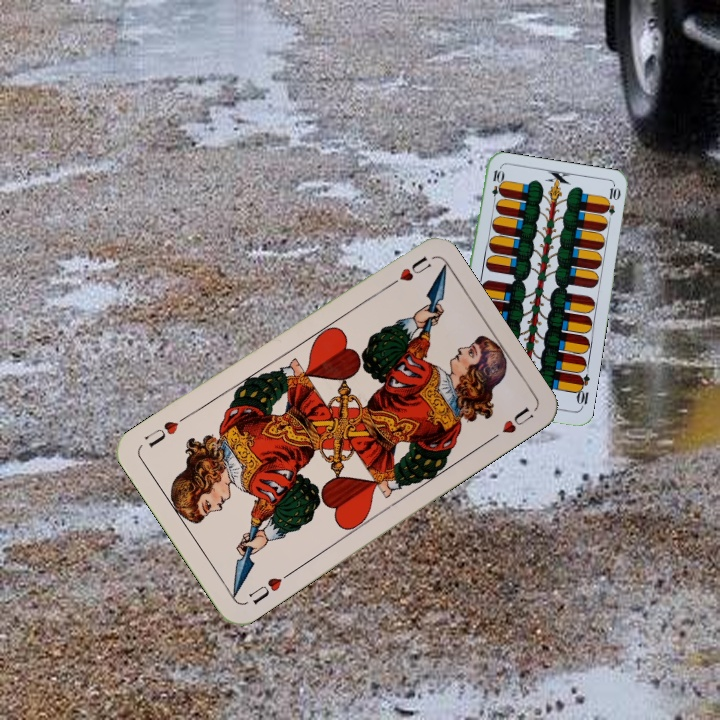E10: (572, 371, 592, 411), (488, 166, 504, 207)
HU: (381, 252, 434, 292), (244, 568, 294, 607)
